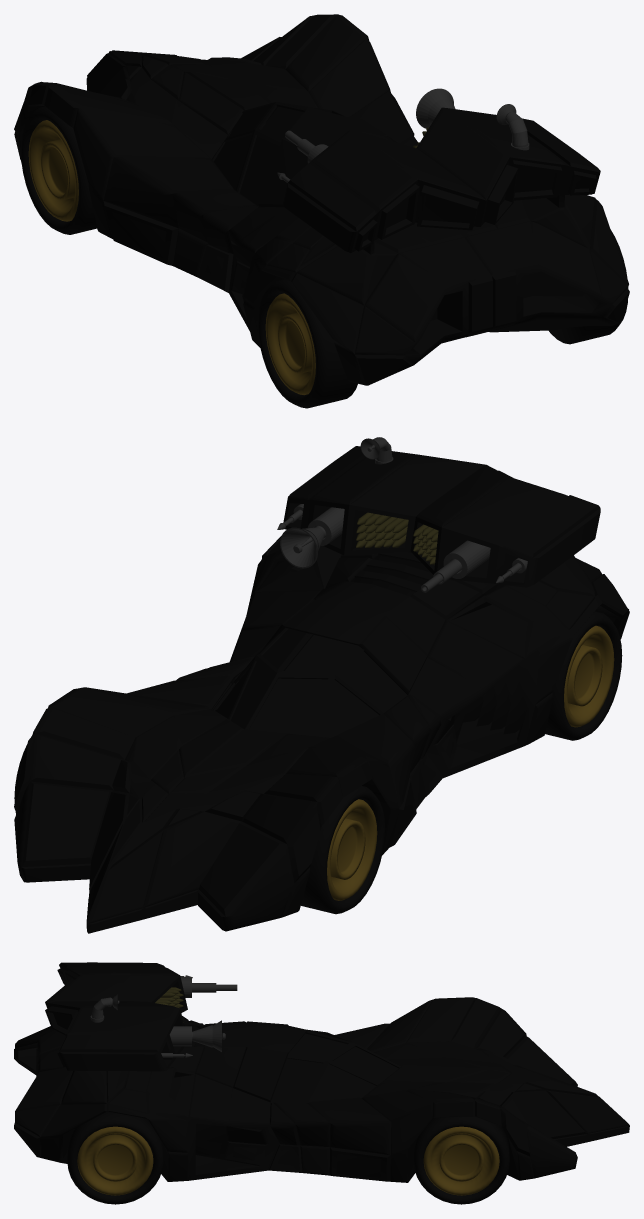
File: batmobile_armored.glb
3 renders of one model, top to bottom at view 1: azimuth 30°, elevation 25°; view 2: azimuth 150°, elevation 25°; view 3: azimuth 270°, elevation 25°, orthographic. The views are drawn at different scales.
Visible parts, largest first — view 1: Cube, Cylinder.007, Cube.001, Cylinder.002, Cylinder.000, Cylinder.001, Cube.002, Cylinder.006, Cylinder.010, Cylinder.047; view 2: Cube, Cube.001, Cylinder.002, Cylinder.000, Cylinder.001, Cube.002, Cylinder.007, Cylinder.010, Cylinder, Cylinder.047; view 3: Cube, Cube.001, Cylinder.005, Cylinder.004, Cylinder.006, Cylinder.003, Cube.002, Cylinder.010, Cylinder, Cylinder.047.
Part boxes in pixels (<box>): Cube: <box>14,14,629,385</box>; Cylinder.007: <box>257,279,357,408</box>; Cube.001: <box>214,106,331,206</box>; Cylinder.002: <box>265,293,315,395</box>; Cylinder.000: <box>28,120,78,221</box>; Cylinder.001: <box>20,106,97,234</box>; Cube.002: <box>212,102,345,192</box>; Cylinder.006: <box>549,229,628,344</box>; Cylinder.010: <box>416,88,455,128</box>; Cylinder.047: <box>496,104,529,150</box>; Cube: <box>14,446,629,933</box>; Cube.001: <box>216,628,407,737</box>; Cylinder.002: <box>564,625,614,727</box>; Cylinder.000: <box>327,799,377,900</box>; Cylinder.001: <box>301,786,385,914</box>; Cube.002: <box>213,627,385,734</box>; Cylinder.007: <box>545,611,622,740</box>; Cylinder.010: <box>280,507,344,568</box>; Cylinder: <box>421,540,490,592</box>; Cylinder.047: <box>360,437,393,464</box>; Cube: <box>14,962,629,1182</box>; Cube.001: <box>270,1033,398,1102</box>; Cylinder.005: <box>77,1126,153,1195</box>; Cylinder.004: <box>423,1126,499,1195</box>; Cylinder.006: <box>67,1111,163,1204</box>; Cylinder.003: <box>413,1116,509,1204</box>; Cube.002: <box>287,1029,400,1102</box>; Cylinder.010: <box>169,1020,225,1051</box>; Cylinder: <box>181,977,237,997</box>; Cylinder.047: <box>90,994,119,1022</box>.
Bounding box in the file's own units: 1.99 × 1.49 × 4.62.
